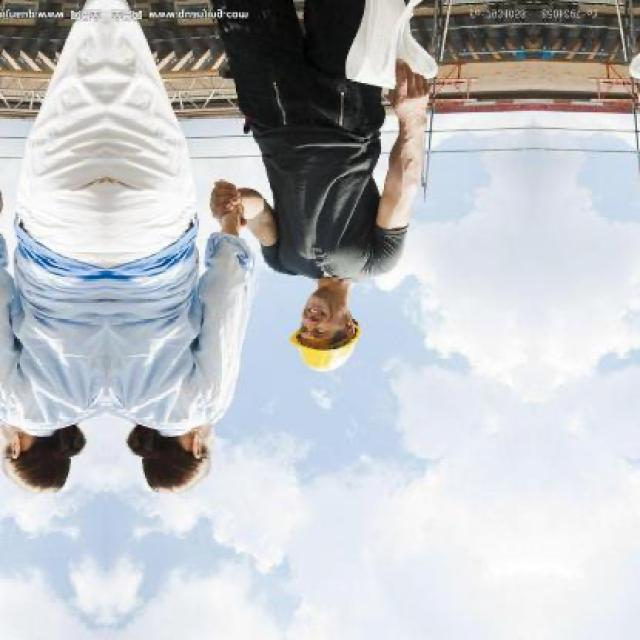con casco: (271, 278, 387, 386)
sin casco: (122, 400, 256, 512), (0, 390, 106, 497)
